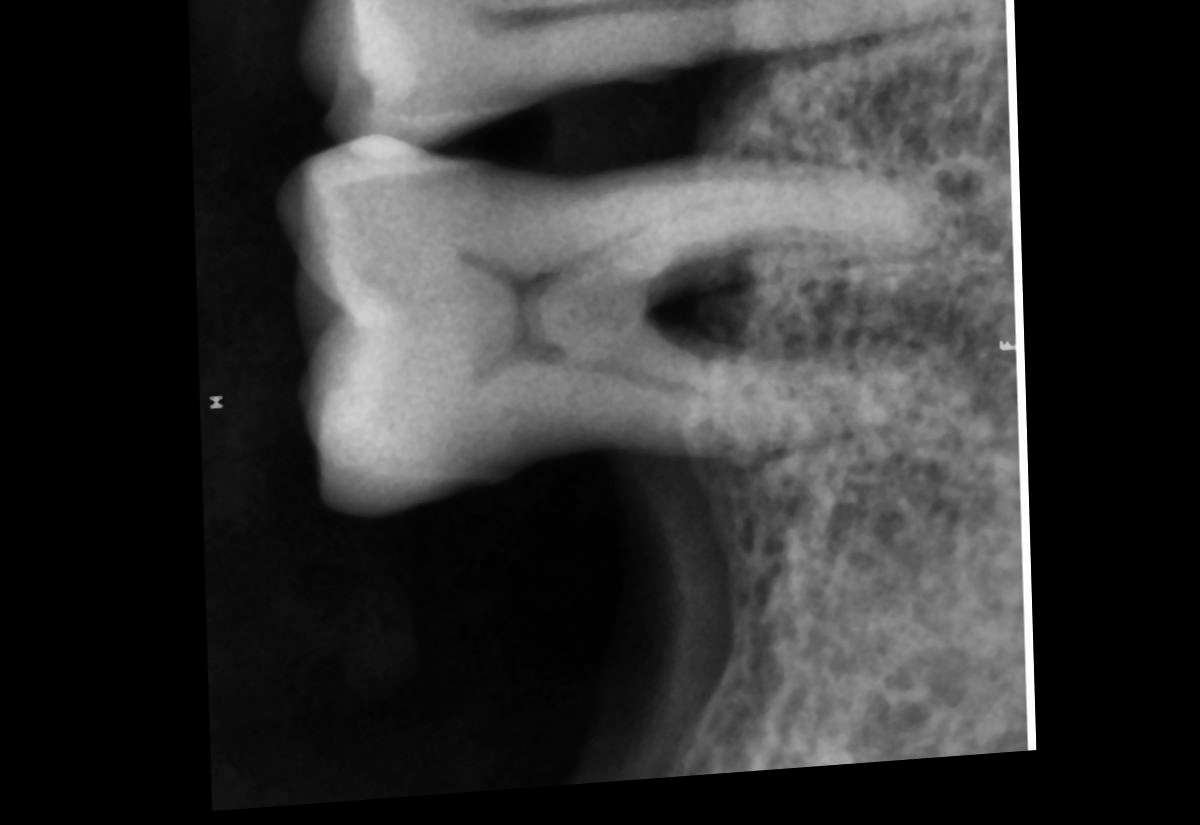Individual Tooth: (279, 140, 934, 521), (301, 0, 999, 152)
